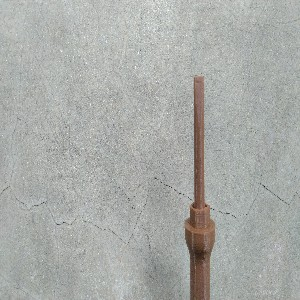obeng: (184, 75, 217, 300)
